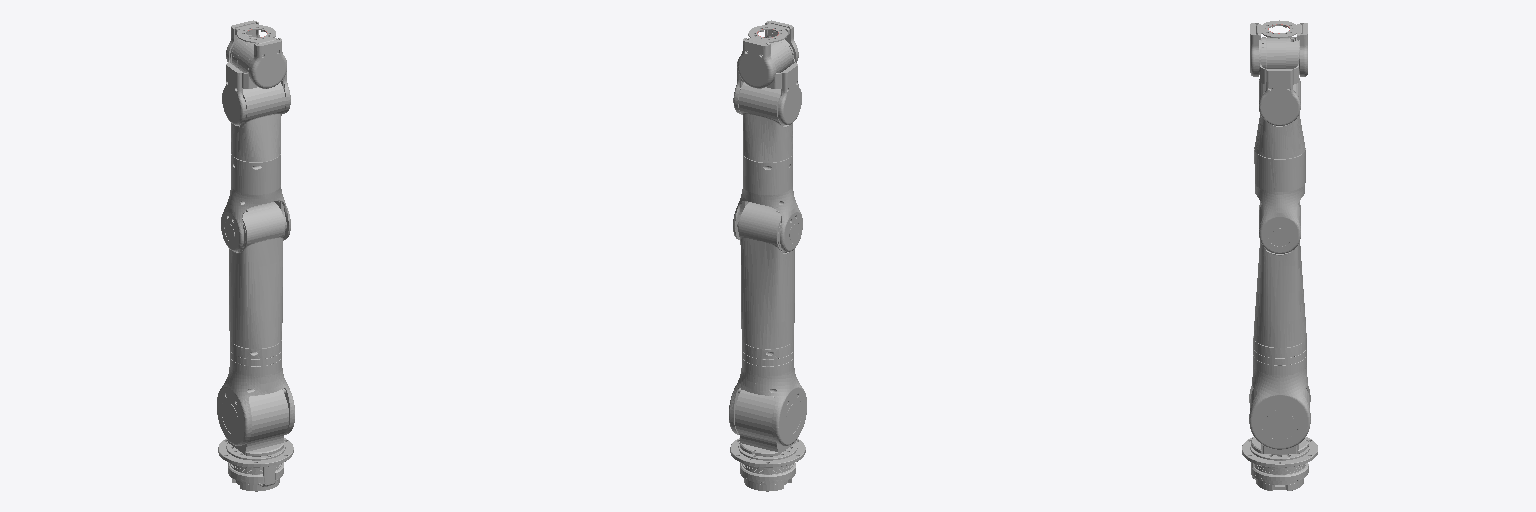
robot.urdf — ARM7_urdf:
<?xml version="1.0" encoding="utf-8"?>
<!-- This URDF was automatically created by SolidWorks to URDF Exporter! Originally created by Stephen Brawner (brawner@gmail.com) 
     Commit Version: 1.6.0-1-g15f4949  Build Version: 1.6.7594.29634
     For more information, please see http://wiki.ros.org/sw_urdf_exporter -->
<robot
  name="ARM7_urdf">
  <link
    name="base_link">
    <inertial>
      <origin
        xyz="0.000931507983843324 -0.000473352167804619 0.263912439260067"
        rpy="0 0 0" />
      <mass
        value="1.4674" />
      <inertia
        ixx="0.0011712"
        ixy="-7.5752E-06"
        ixz="-3.5237E-09"
        iyy="0.0010496"
        iyz="-1.6939E-06"
        izz="0.001659" />
    </inertial>
    <visual>
      <origin
        xyz="0 0 0"
        rpy="0 0 0" />
      <geometry>
        <mesh
          filename="meshes/base_link.STL" />
      </geometry>
      <material
        name="">
        <color
          rgba="0.75294 0.75294 0.75294 1" />
      </material>
    </visual>
    <collision>
      <origin
        xyz="0 0 0"
        rpy="0 0 0" />
      <geometry>
        <mesh
          filename="meshes/base_link.STL" />
      </geometry>
    </collision>
  </link>
  <link
    name="A1_Link">
    <inertial>
      <origin
        xyz="0.000931507983839985 -0.000473358854174711 0.254912439260067"
        rpy="0 0 0" />
      <mass
        value="1.3746" />
      <inertia
        ixx="0.0011628"
        ixy="7.3948E-08"
        ixz="-2.3148E-06"
        iyy="0.00069924"
        iyz="-1.2134E-06"
        izz="0.00066507" />
    </inertial>
    <visual>
      <origin
        xyz="0 0 0"
        rpy="0 0 0" />
      <geometry>
        <mesh
          filename="meshes/A1_Link.STL" />
      </geometry>
      <material
        name="">
        <color
          rgba="0.75294 0.75294 0.75294 1" />
      </material>
    </visual>
    <collision>
      <origin
        xyz="0 0 0"
        rpy="0 0 0" />
      <geometry>
        <mesh
          filename="meshes/A1_Link.STL" />
      </geometry>
    </collision>
  </link>
  <joint
    name="A1_joint"
    type="revolute">
    <origin
      xyz="0 0 0.009"
      rpy="0 0 0" />
    <parent
      link="base_link" />
    <child
      link="A1_Link" />
    <axis
      xyz="0 0 -1" />
    <limit
      lower="-2.9"
      upper="1"
      effort="80"
      velocity="10.47" />
  </joint>
  <link
    name="A2_Link">
    <inertial>
      <origin
        xyz="0.00026422 5.5257E-06 0.080992"
        rpy="0 0 0" />
      <mass
        value="1.0613" />
      <inertia
        ixx="0.0009737"
        ixy="-4.5798E-06"
        ixz="4.446E-06"
        iyy="0.00088041"
        iyz="9.0555E-07"
        izz="0.00043392" />
    </inertial>
    <visual>
      <origin
        xyz="0 0 0"
        rpy="0 0 0" />
      <geometry>
        <mesh
          filename="meshes/A2_Link.STL" />
      </geometry>
      <material
        name="">
        <color
          rgba="0.75294 0.75294 0.75294 1" />
      </material>
    </visual>
    <collision>
      <origin
        xyz="0 0 0"
        rpy="0 0 0" />
      <geometry>
        <mesh
          filename="meshes/A2_Link.STL" />
      </geometry>
    </collision>
  </link>
  <joint
    name="A2_joint"
    type="revolute">
    <origin
      xyz="0 0 0.0595"
      rpy="0 0 0" />
    <parent
      link="A1_Link" />
    <child
      link="A2_Link" />
    <axis
      xyz="1 0 0" />
    <limit
      lower="-0.15"
      upper="3.14"
      effort="80"
      velocity="10.47" />
  </joint>
  <link
    name="A3_Link">
    <inertial>
      <origin
        xyz="0.000714432473771844 5.13934321058108E-06 0.143745428574929"
        rpy="0 0 0" />
      <mass
        value="1.36194675862908" />
      <inertia
        ixx="0.00228308229208027"
        ixy="-1.18403581131375E-06"
        ixz="1.23417912332837E-05"
        iyy="0.00226179539717981"
        iyz="5.22816437197401E-06"
        izz="0.000395545976589391" />
    </inertial>
    <visual>
      <origin
        xyz="0 0 0"
        rpy="0 0 0" />
      <geometry>
        <mesh
          filename="meshes/A3_Link.STL" />
      </geometry>
      <material
        name="">
        <color
          rgba="0.752941176470588 0.752941176470588 0.752941176470588 1" />
      </material>
    </visual>
    <collision>
      <origin
        xyz="0 0 0"
        rpy="0 0 0" />
      <geometry>
        <mesh
          filename="meshes/A3_Link.STL" />
      </geometry>
    </collision>
  </link>
  <joint
    name="A3_joint"
    type="revolute">
    <origin
      xyz="0 0 0.123"
      rpy="0 0 0" />
    <parent
      link="A2_Link" />
    <child
      link="A3_Link" />
    <axis
      xyz="0 0 -1" />
    <limit
      lower="-2.35"
      upper="2.35"
      effort="36"
      velocity="9.1" />
  </joint>
  <link
    name="A4_Link">
    <inertial>
      <origin
        xyz="0.00036979 -8.3472E-05 0.086107"
        rpy="0 0 0" />
      <mass
        value="0.9742" />
      <inertia
        ixx="0.00065853"
        ixy="-4.4008E-06"
        ixz="1.5942E-06"
        iyy="0.00062115"
        iyz="8.8762E-07"
        izz="0.00037166" />
    </inertial>
    <visual>
      <origin
        xyz="0 0 0"
        rpy="0 0 0" />
      <geometry>
        <mesh
          filename="meshes/A4_Link.STL" />
      </geometry>
      <material
        name="">
        <color
          rgba="0.75294 0.75294 0.75294 1" />
      </material>
    </visual>
    <collision>
      <origin
        xyz="0 0 0"
        rpy="0 0 0" />
      <geometry>
        <mesh
          filename="meshes/A4_Link.STL" />
      </geometry>
    </collision>
  </link>
  <joint
    name="A4_joint"
    type="revolute">
    <origin
      xyz="0 -0.00010871 0.1871"
      rpy="0 0 0" />
    <parent
      link="A3_Link" />
    <child
      link="A4_Link" />
    <axis
      xyz="1 0 0" />
    <limit
      lower="0"
      upper="2.2"
      effort="36"
      velocity="9.1" />
  </joint>
  <link
    name="A5_Link">
    <inertial>
      <origin
        xyz="0.0019715 1.0813E-05 0.07637"
        rpy="0 0 0" />
      <mass
        value="1.0165" />
      <inertia
        ixx="0.00056699"
        ixy="-2.606E-07"
        ixz="6.3239E-08"
        iyy="0.0004725"
        iyz="-4.2089E-07"
        izz="0.00025198" />
    </inertial>
    <visual>
      <origin
        xyz="0 0 0"
        rpy="0 0 0" />
      <geometry>
        <mesh
          filename="meshes/A5_Link.STL" />
      </geometry>
      <material
        name="">
        <color
          rgba="0.75294 0.75294 0.75294 1" />
      </material>
    </visual>
    <collision>
      <origin
        xyz="0 0 0"
        rpy="0 0 0" />
      <geometry>
        <mesh
          filename="meshes/A5_Link.STL" />
      </geometry>
    </collision>
  </link>
  <joint
    name="A5_joint"
    type="revolute">
    <origin
      xyz="0 -0.00013906 0.124"
      rpy="0 0 0" />
    <parent
      link="A4_Link" />
    <child
      link="A5_Link" />
    <axis
      xyz="0 0 -1" />
    <limit
      lower="-2.35"
      upper="2.35"
      effort="36"
      velocity="9.1" />
  </joint>
  <link
    name="A6_Link">
    <inertial>
      <origin
        xyz="0.0012366 -0.0024991 0.058905"
        rpy="0 0 0" />
      <mass
        value="0.93686" />
      <inertia
        ixx="0.00035673"
        ixy="1.4726E-06"
        ixz="2.9849E-06"
        iyy="0.00041402"
        iyz="-6.0603E-06"
        izz="0.00025408" />
    </inertial>
    <visual>
      <origin
        xyz="0 0 0"
        rpy="0 0 0" />
      <geometry>
        <mesh
          filename="meshes/A6_Link.STL" />
      </geometry>
      <material
        name="">
        <color
          rgba="0.75294 0.75294 0.75294 1" />
      </material>
    </visual>
    <collision>
      <origin
        xyz="0 0 0"
        rpy="0 0 0" />
      <geometry>
        <mesh
          filename="meshes/A6_Link.STL" />
      </geometry>
    </collision>
  </link>
  <joint
    name="A6_joint"
    type="revolute">
    <origin
      xyz="0 -0.00020755 0.088099"
      rpy="0 0 0" />
    <parent
      link="A5_Link" />
    <child
      link="A6_Link" />
    <axis
      xyz="1 0 0" />
    <limit
      lower="-1.57"
      upper="1.57"
      effort="36"
      velocity="9.1" />
  </joint>
  <link
    name="A7_Link">
    <inertial>
      <origin
        xyz="-2.9344E-05 -0.0015098 0.021655"
        rpy="0 0 0" />
      <mass
        value="0.15773" />
      <inertia
        ixx="6.3345E-05"
        ixy="-6.8054E-09"
        ixz="-2.5307E-09"
        iyy="6.9522E-05"
        iyz="-9.4564E-09"
        izz="5.9012E-05" />
    </inertial>
    <visual>
      <origin
        xyz="0 0 0"
        rpy="0 0 0" />
      <geometry>
        <mesh
          filename="meshes/A7_Link.STL" />
      </geometry>
      <material
        name="">
        <color
          rgba="0.75294 0.75294 0.75294 1" />
      </material>
    </visual>
    <collision>
      <origin
        xyz="0 0 0"
        rpy="0 0 0" />
      <geometry>
        <mesh
          filename="meshes/A7_Link.STL" />
      </geometry>
    </collision>
  </link>
  <joint
    name="A7_joint"
    type="revolute">
    <origin
      xyz="0.00060033 0.00045533 0.065501"
      rpy="0 0 0" />
    <parent
      link="A6_Link" />
    <child
      link="A7_Link" />
    <axis
      xyz="0 1 0" />
    <limit
      lower="-1.57"
      upper="1.57"
      effort="36"
      velocity="9.1" />
  </joint>
  <link
    name="A8_Link">
    <inertial>
      <origin
        xyz="1.1216E-07 1.1232E-07 -0.0001"
        rpy="0 0 0" />
      <mass
        value="2.7567E-05" />
      <inertia
        ixx="3.6407E-09"
        ixy="4.5861E-15"
        ixz="-4.0831E-12"
        iyy="3.6407E-09"
        iyz="-4.089E-12"
        izz="7.2813E-09" />
    </inertial>
    <visual>
      <origin
        xyz="0 0 0"
        rpy="0 0 0" />
      <geometry>
        <mesh
          filename="meshes/A8_Link.STL" />
      </geometry>
      <material
        name="">
        <color
          rgba="0.86275 0.54902 0.5451 1" />
      </material>
    </visual>
    <collision>
      <origin
        xyz="0 0 0"
        rpy="0 0 0" />
      <geometry>
        <mesh
          filename="meshes/A8_Link.STL" />
      </geometry>
    </collision>
  </link>
  <joint
    name="A8_joint"
    type="fixed">
    <origin
      xyz="-4.1388E-05 -0.0011787 0.044999"
      rpy="0 0 0" />
    <parent
      link="A7_Link" />
    <child
      link="A8_Link" />
    <axis
      xyz="0 0 0" />
  </joint>
</robot>

--- Render facts (derived) ---
The picture shows the robot from 3 angles, left to right: view 1: azimuth 30°, elevation 25°; view 2: azimuth 150°, elevation 25°; view 3: azimuth 270°, elevation 25°; orthographic projection.
Robot: ARM7_urdf — 9 links, 8 joints (7 revolute, 1 fixed); root link base_link; default pose: all joints at 0.
Links seen in each view (by area): view 1: A3_Link, A2_Link, A4_Link, A5_Link, A1_Link, A7_Link, base_link, A6_Link; view 2: A3_Link, A2_Link, A4_Link, A5_Link, A1_Link, A7_Link, base_link, A6_Link; view 3: A2_Link, A3_Link, A4_Link, A6_Link, base_link, A5_Link, A7_Link, A1_Link.
Boxes of the visible links, x1=… form: A3_Link: x1=229, y1=202, x2=284, y2=348; A2_Link: x1=217, y1=340, x2=294, y2=445; A4_Link: x1=221, y1=154, x2=290, y2=251; A5_Link: x1=231, y1=82, x2=285, y2=161; A1_Link: x1=228, y1=389, x2=288, y2=456; A7_Link: x1=226, y1=20, x2=286, y2=88; base_link: x1=218, y1=438, x2=293, y2=491; A6_Link: x1=222, y1=35, x2=290, y2=124; A3_Link: x1=739, y1=202, x2=794, y2=348; A2_Link: x1=729, y1=341, x2=806, y2=445; A4_Link: x1=733, y1=155, x2=802, y2=251; A5_Link: x1=738, y1=82, x2=792, y2=162; A1_Link: x1=735, y1=390, x2=795, y2=456; A7_Link: x1=737, y1=20, x2=798, y2=88; base_link: x1=730, y1=438, x2=805, y2=491; A6_Link: x1=733, y1=36, x2=801, y2=124; A2_Link: x1=1249, y1=336, x2=1310, y2=449; A3_Link: x1=1254, y1=205, x2=1306, y2=347; A4_Link: x1=1254, y1=149, x2=1305, y2=253; A6_Link: x1=1259, y1=37, x2=1300, y2=125; base_link: x1=1242, y1=437, x2=1317, y2=490; A5_Link: x1=1254, y1=80, x2=1305, y2=158; A7_Link: x1=1250, y1=20, x2=1307, y2=76; A1_Link: x1=1250, y1=389, x2=1309, y2=455.
Bounding box of the posed robot: 0.1149 × 0.115 × 0.751 m (x, y, z).
9 mesh visuals loaded from 9 distinct referenced files (9 binary STL).
